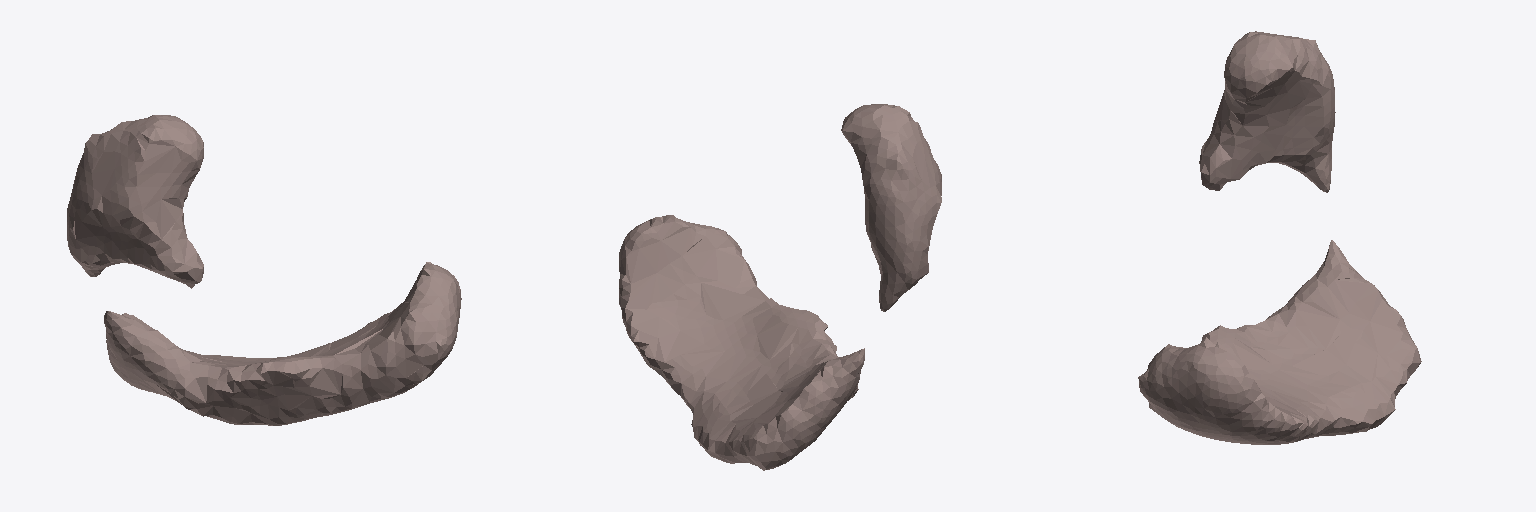
The model's file is Model_10458_LH__Superficial_gray_layer_of_the_superior_colliculcus_(SuG).obj.
The picture shows the model from 3 angles: view 1: azimuth 30°, elevation 25°; view 2: azimuth 150°, elevation 25°; view 3: azimuth 270°, elevation 25°; orthographic projection.
Size of the model in its own units: 3.2 by 3.01 by 2.28.